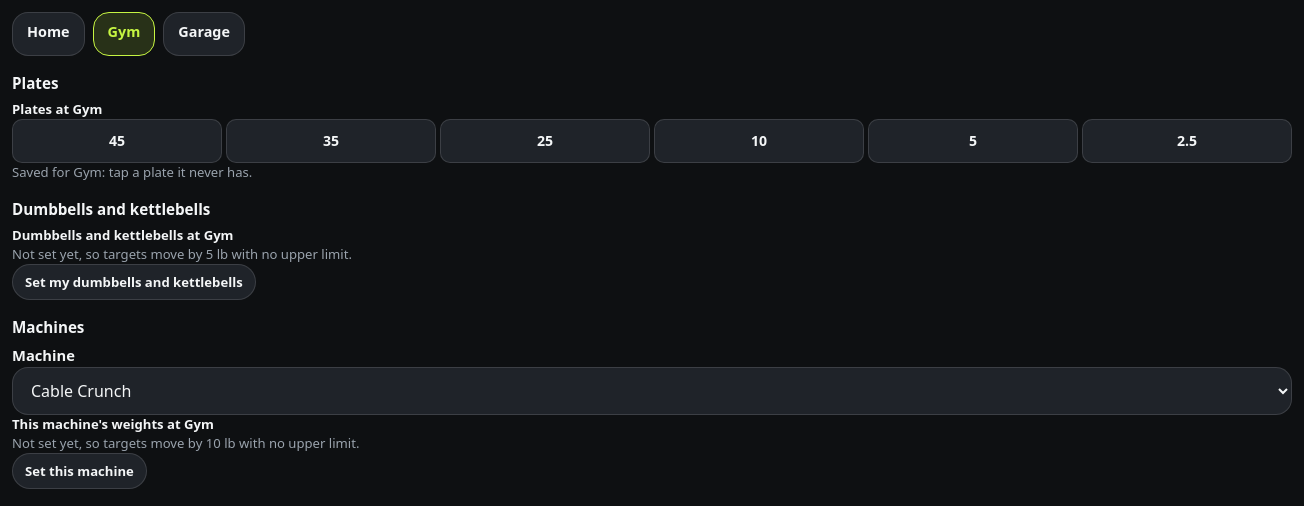
Scenario: the weights at each place, in Settings › names a place’s kettlebells as such, with no dumbbells there (the review)
Step 1. Click the radio button labelled "Garage" → (204, 34), box [163,12,245,56]
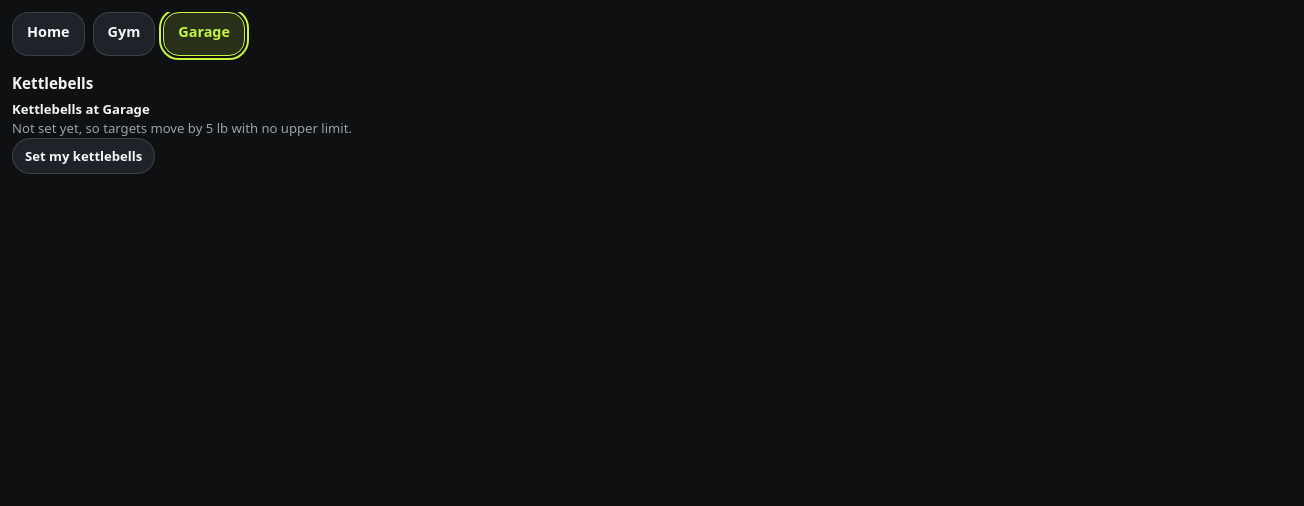
Expected: the element with test id "place-weights-dumbbells" shows "Kettlebells at Garage", [12,100,150,118]
Expected: the button with test id "loading-edit" reads "Set my kettlebells", [12,138,155,174]
Expected: the element with test id "place-weights" no longer shows "Dumbbells", [12,12,352,174]
